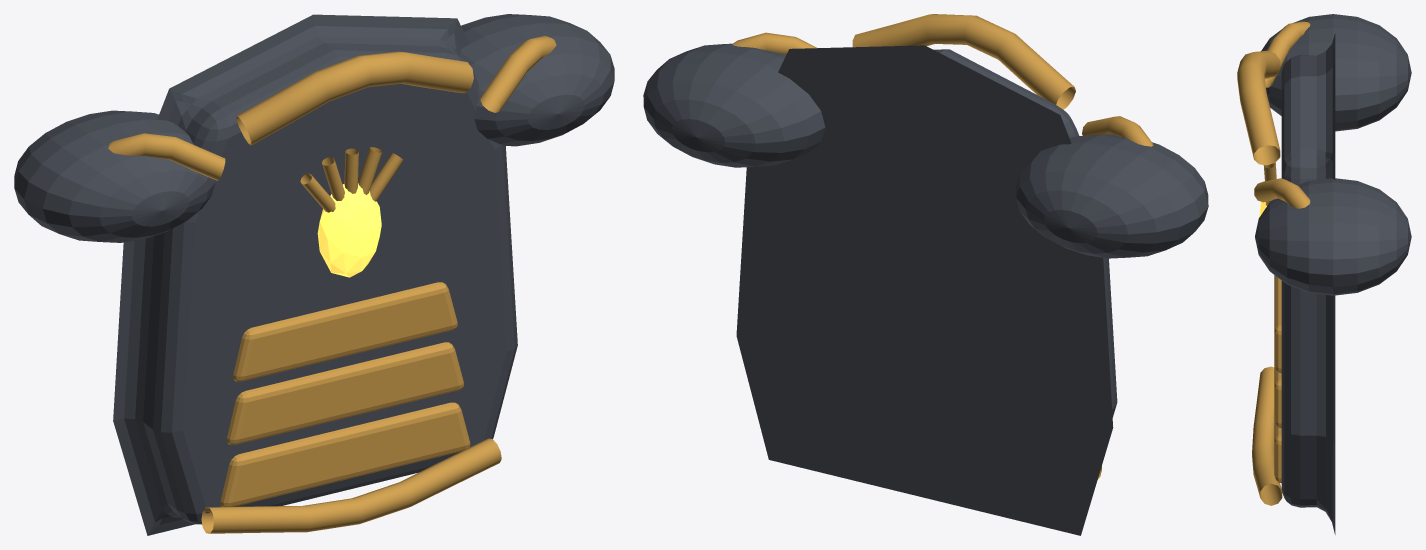
Rendered from armor_bastion.glb.
3 renders of one model, left to right at view 1: azimuth 30°, elevation 25°; view 2: azimuth 150°, elevation 25°; view 3: azimuth 270°, elevation 25°, orthographic. The views are drawn at different scales.
Visible parts, largest first — view 1: Breastplate, ShoulderGuard, ShoulderGuard.001, AbPlate, AbPlate.001, AbPlate.002, WaistTrim, Collar, ChestGem, ShoulderTrim, ShoulderTrim.001; view 2: Breastplate, ShoulderGuard, ShoulderGuard.001, Collar, ShoulderTrim, ShoulderTrim.001; view 3: Breastplate, ShoulderGuard.001, ShoulderGuard, Collar, WaistTrim, ShoulderTrim.001, ShoulderTrim, AbPlate.002, AbPlate, AbPlate.001.
Boxes of the visible parts, x1,y1,x2,y2 form: Breastplate: (113, 14, 517, 535); ShoulderGuard: (14, 110, 215, 242); ShoulderGuard.001: (460, 14, 614, 146); AbPlate: (220, 402, 470, 506); AbPlate.001: (227, 342, 463, 444); AbPlate.002: (233, 282, 457, 381); WaistTrim: (201, 438, 501, 533); Collar: (236, 51, 473, 145); ChestGem: (317, 183, 381, 277); ShoulderTrim: (108, 133, 225, 180); ShoulderTrim.001: (480, 35, 556, 112); Breastplate: (736, 45, 1117, 535); ShoulderGuard: (1016, 134, 1208, 258); ShoulderGuard.001: (643, 43, 825, 167); Collar: (852, 14, 1075, 109); ShoulderTrim: (1082, 116, 1153, 146); ShoulderTrim.001: (732, 32, 817, 54); Breastplate: (1281, 33, 1335, 534); ShoulderGuard.001: (1255, 178, 1411, 295); ShoulderGuard: (1261, 14, 1411, 131); Collar: (1237, 50, 1280, 165); WaistTrim: (1252, 366, 1282, 505); ShoulderTrim.001: (1254, 178, 1310, 208); ShoulderTrim: (1265, 21, 1310, 87); AbPlate.002: (1274, 275, 1281, 373); AbPlate: (1274, 420, 1281, 483); AbPlate.001: (1274, 365, 1281, 428).
Bounding box in the file's own units: 1.38 × 1.09 × 0.4226.
